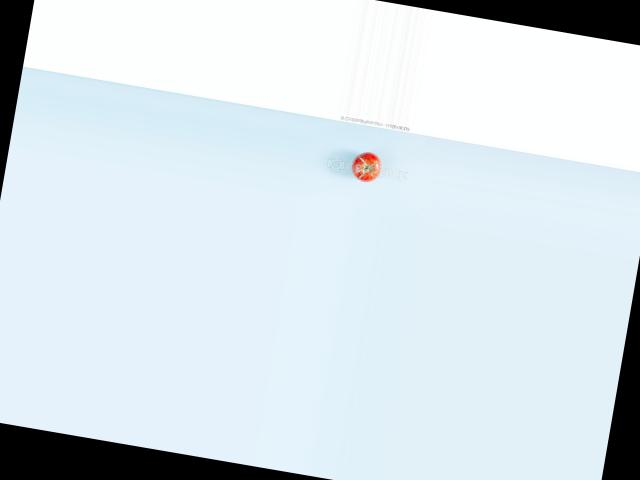tomato: (350, 148, 383, 183)
